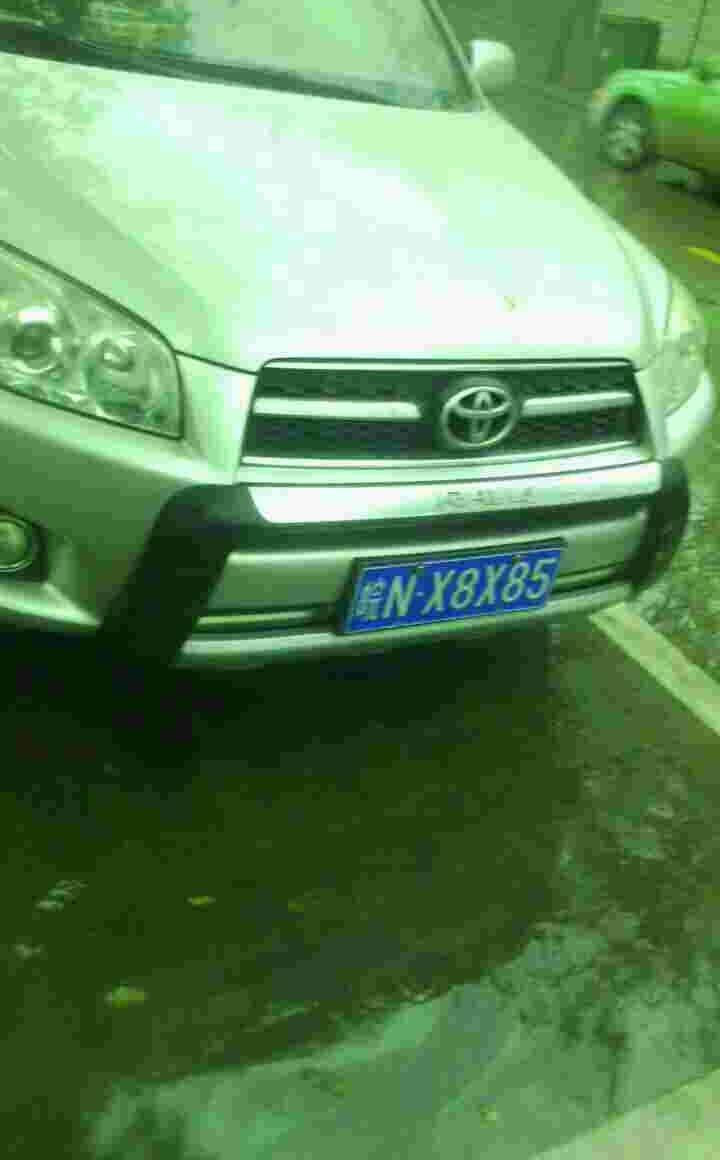plate: (347, 542, 573, 637)
